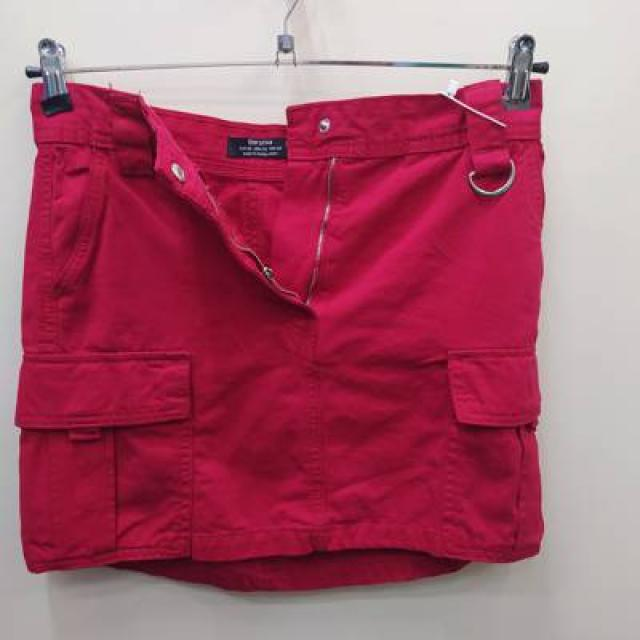Clothes -Biodegradable-: (13, 76, 545, 588)
